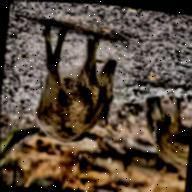boar: (16, 7, 146, 177), (133, 90, 192, 184)
